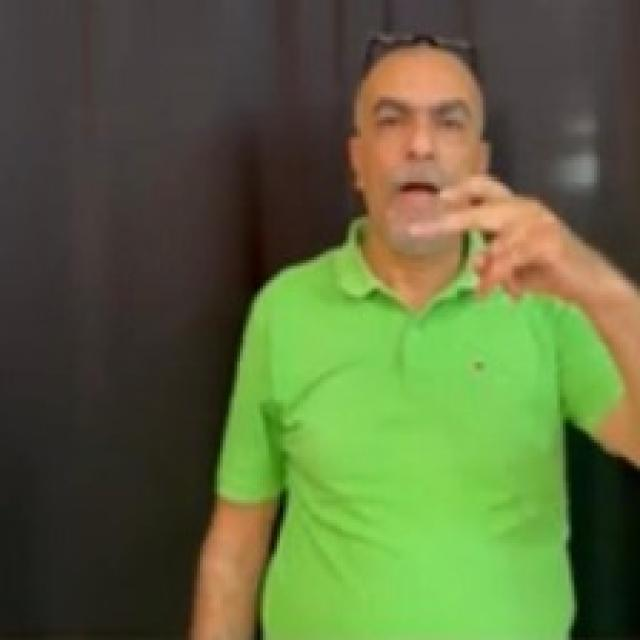sunday: (401, 170, 555, 305)
